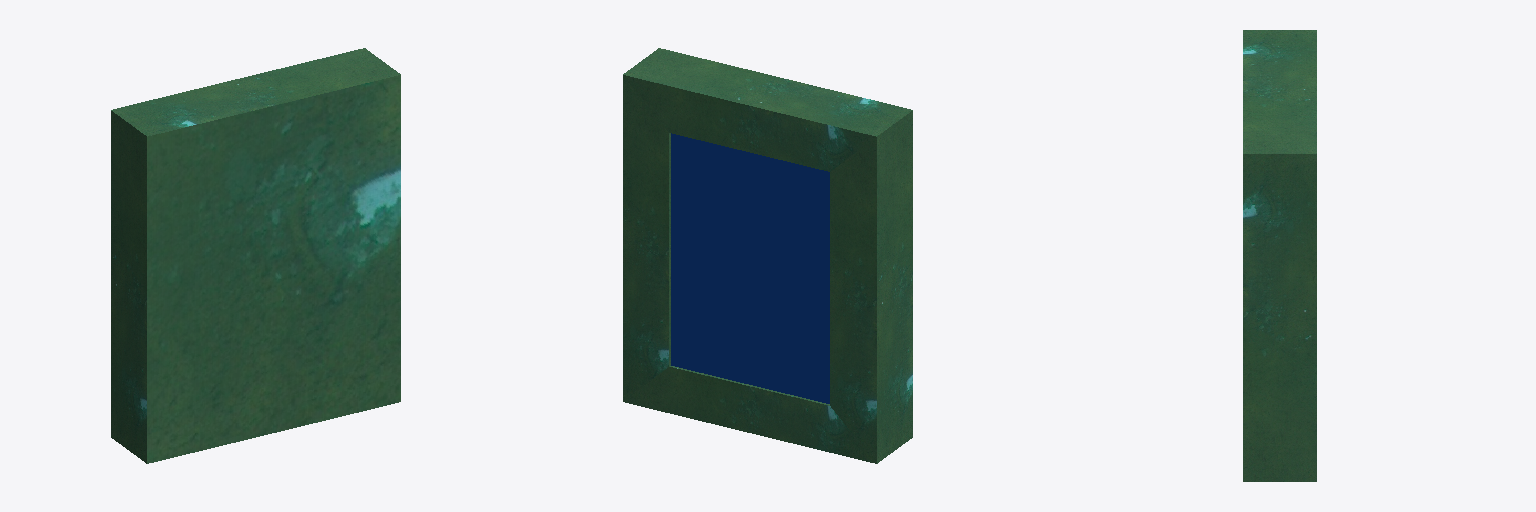
3 renders of one model, left to right at view 1: azimuth 30°, elevation 25°; view 2: azimuth 150°, elevation 25°; view 3: azimuth 270°, elevation 25°, orthographic.
Parts seen in each view (by area): view 1: Pool_Exterior_pool_exterior_mesh; view 2: Pool_Exterior_pool_exterior_mesh, Water_water_mesh; view 3: Pool_Exterior_pool_exterior_mesh.
Boxes of the visible parts, box(x1,y1,x2,y2) form: Pool_Exterior_pool_exterior_mesh: box(111, 48, 400, 463); Pool_Exterior_pool_exterior_mesh: box(623, 48, 912, 463); Water_water_mesh: box(671, 133, 829, 403); Pool_Exterior_pool_exterior_mesh: box(1243, 30, 1316, 481).
Size of the model in its own units: 26 by 32 by 6.49.
Materials: 2 (1 with a texture image).